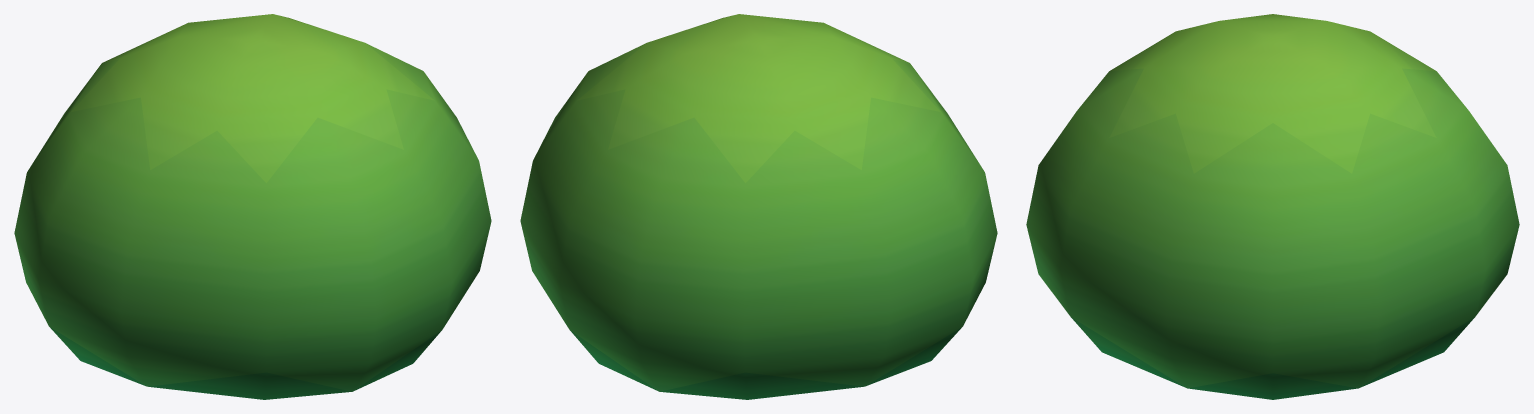
File: bush_1_c_color1.fdae7a9b.glb
The picture shows the model from 3 angles, left to right: view 1: azimuth 30°, elevation 25°; view 2: azimuth 150°, elevation 25°; view 3: azimuth 270°, elevation 25°; orthographic projection.
Visible parts, largest first — view 1: Bush_1_C_Color1; view 2: Bush_1_C_Color1; view 3: Bush_1_C_Color1.
Part boxes in pixels (box(x1,y1,x2,y2)): Bush_1_C_Color1: box(14, 14, 491, 399); Bush_1_C_Color1: box(520, 14, 997, 399); Bush_1_C_Color1: box(1026, 14, 1519, 399).
Bounding box in the file's own units: 1.2 × 0.8074 × 1.2.
1 material, 1 textured.
